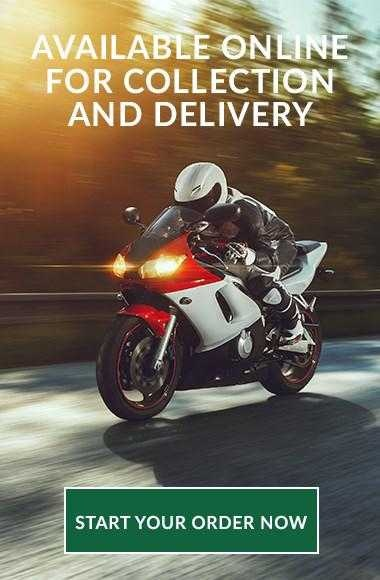motorcycle: (92, 203, 342, 424)
